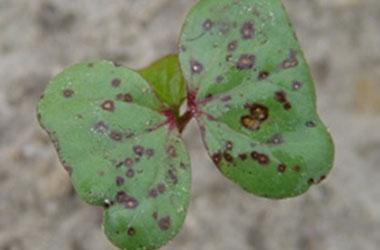black-spot: (198, 11, 287, 130), (104, 130, 170, 216)
